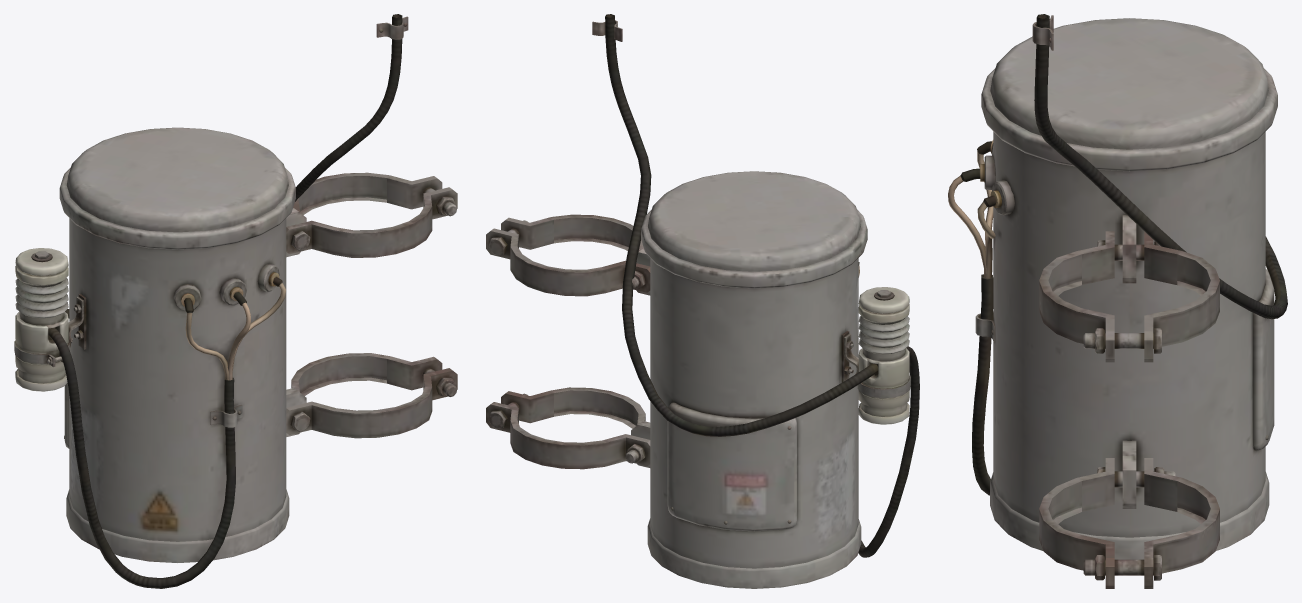
Rendered from pole-transformer-unit.glb.
3 renders of one model, left to right at view 1: azimuth 30°, elevation 25°; view 2: azimuth 150°, elevation 25°; view 3: azimuth 270°, elevation 25°, orthographic. The views are drawn at different scales.
Parts seen in each view (by area): view 1: transformer_01; view 2: transformer_01; view 3: transformer_01.
Boxes of the visible parts, x1,y1,x2,y2 form: transformer_01: (14,14,457,588); transformer_01: (486,14,919,588); transformer_01: (948,14,1287,588).
Size of the model in its own units: 0.5468 by 0.6123 by 0.2989.
Materials: 1 (1 with a texture image).
